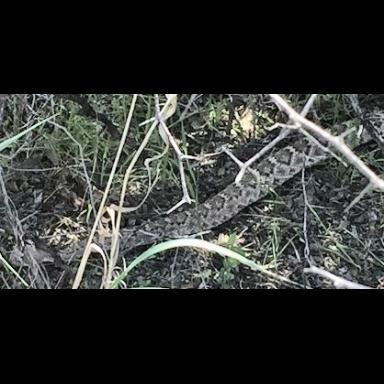snake: (0, 93, 384, 289)
